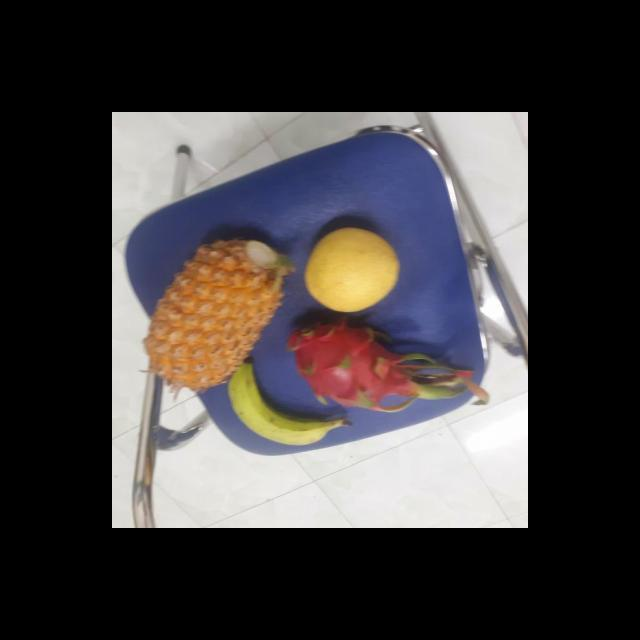banana: (223, 360, 339, 448)
guava: (300, 226, 400, 310)
pineapple: (142, 239, 286, 386)
pitaya: (284, 314, 421, 412)
